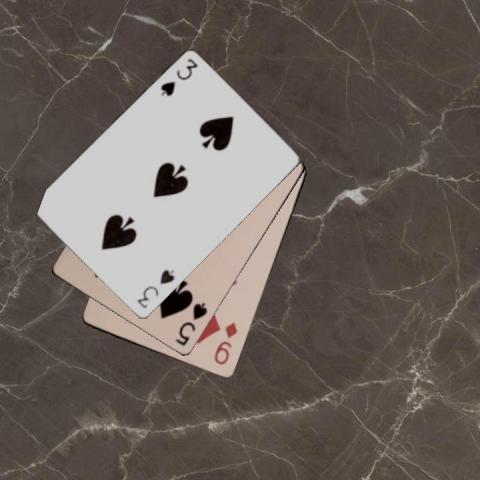3s: (158, 55, 200, 99), (134, 267, 176, 310)
5s: (172, 300, 208, 347)
9d: (212, 319, 240, 367)
